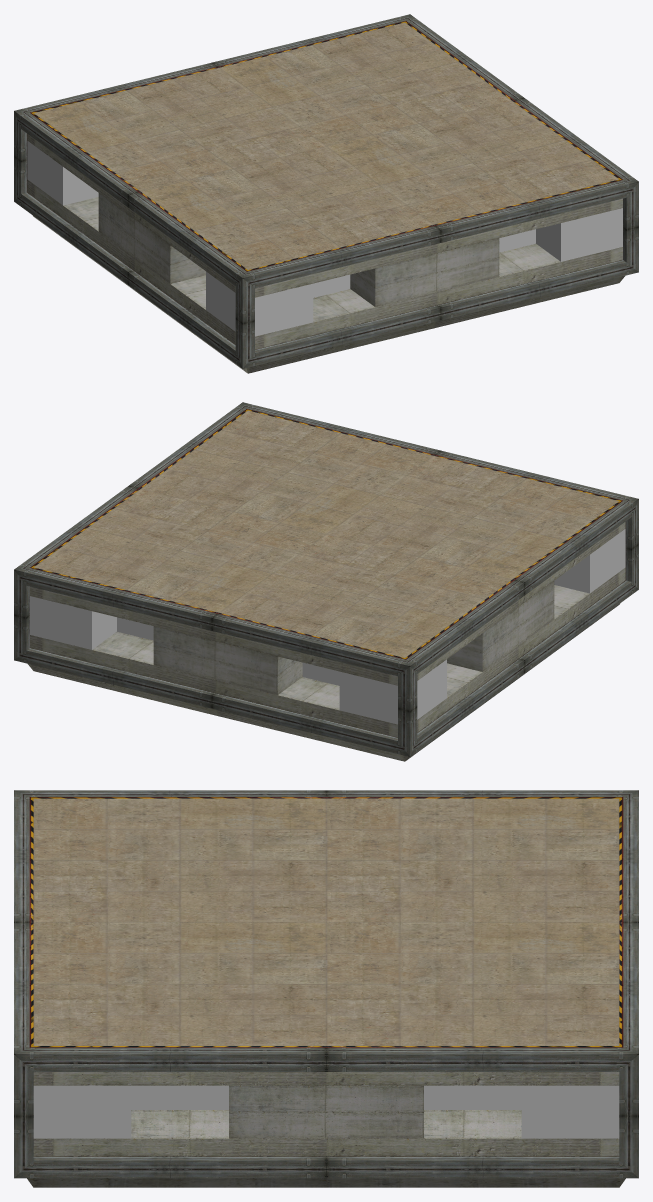
File: WTP_H.fbx
3 views of the same model, one above another, from view 1: azimuth 30°, elevation 25°; view 2: azimuth 150°, elevation 25°; view 3: azimuth 270°, elevation 25° (orthographic). The views are drawn at different scales.
Parts seen in each view (by area): view 1: WTP_H_Lod0; view 2: WTP_H_Lod0; view 3: WTP_H_Lod0.
Part boxes in pixels (x1,y1,x2,y2): WTP_H_Lod0: (14, 14, 638, 373); WTP_H_Lod0: (14, 402, 638, 761); WTP_H_Lod0: (14, 790, 638, 1187).
Size of the model in its own units: 32 by 8 by 32.
